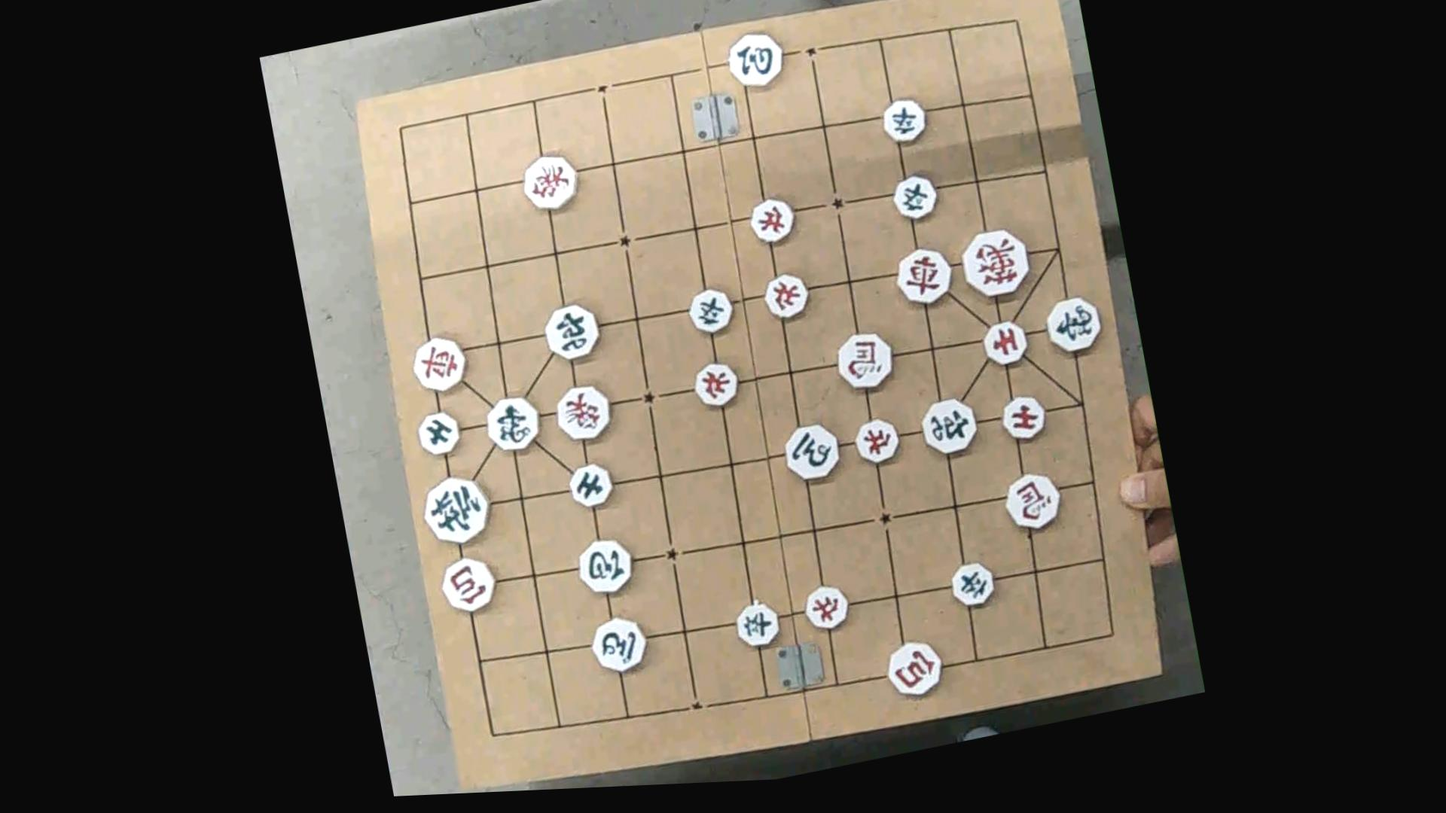cha_green: (915, 393, 981, 456), (544, 297, 601, 364)
cha_red: (891, 242, 956, 309), (412, 330, 470, 394)
jol_green: (685, 284, 738, 338), (736, 595, 782, 650), (882, 93, 928, 147), (950, 557, 995, 611), (894, 172, 939, 220)
jol_red: (694, 357, 740, 413), (762, 268, 808, 324), (854, 413, 901, 467), (749, 193, 795, 248), (804, 580, 849, 634)
ma_green: (784, 418, 844, 485), (593, 611, 651, 678)
ma_red: (837, 325, 898, 395), (1002, 467, 1060, 534)
po_green: (722, 27, 786, 92), (576, 534, 634, 601)
po_red: (440, 548, 498, 617), (888, 634, 945, 702)
sa_green: (566, 456, 615, 513), (416, 406, 461, 462)
sa_red: (979, 313, 1033, 372), (1000, 389, 1046, 443)
sang_green: (1045, 291, 1103, 358), (483, 392, 541, 452)
sang_red: (554, 379, 613, 447), (522, 148, 580, 213)
wang_green: (421, 469, 491, 550)
wang_red: (960, 221, 1035, 303)
